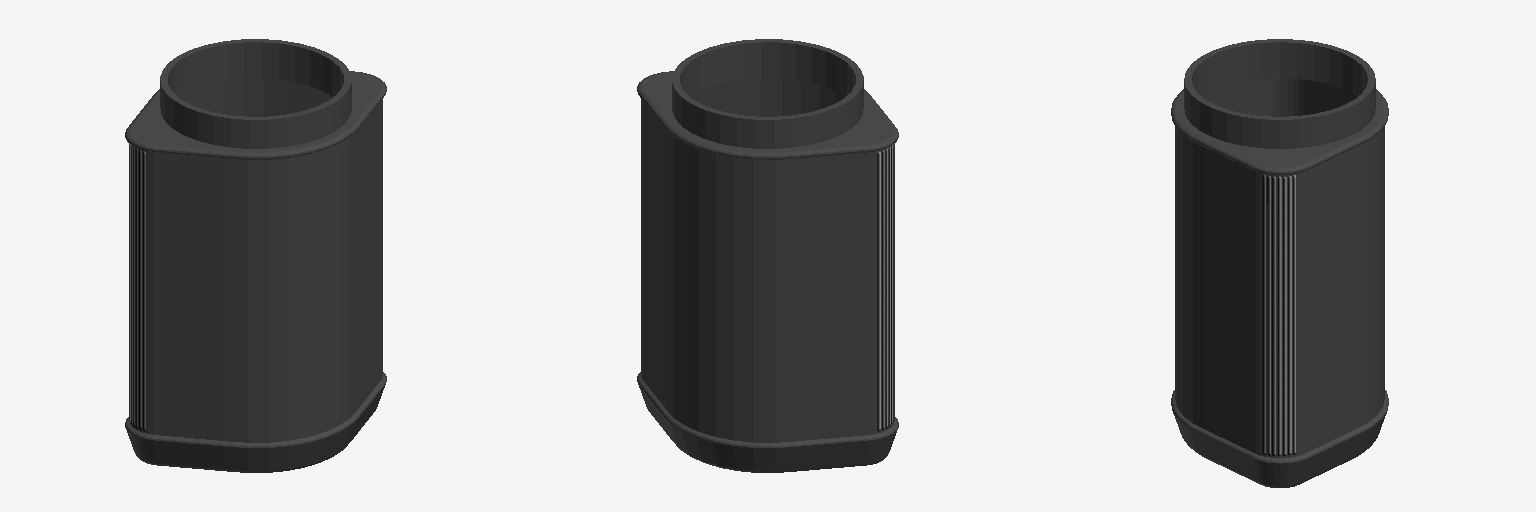
3 views of the same model, side by side, from view 1: azimuth 30°, elevation 25°; view 2: azimuth 150°, elevation 25°; view 3: azimuth 270°, elevation 25° (orthographic).
Parts seen in each view (by area): view 1: Mesh; view 2: Mesh; view 3: Mesh.
Boxes of the visible parts, x1,y1,x2,y2 form: Mesh: [125, 39, 386, 472]; Mesh: [637, 39, 898, 472]; Mesh: [1171, 39, 1388, 487].
Size of the model in its own units: 2.77 by 3.71 by 2.09.
Materials: 2 (1 with a texture image).